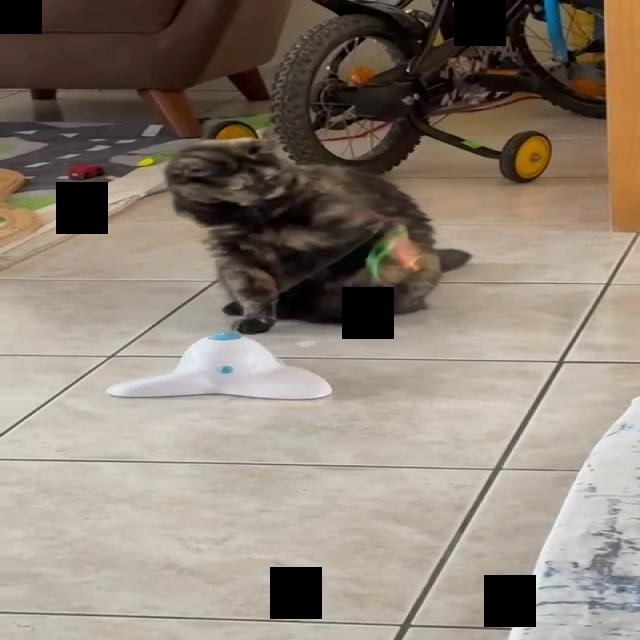authorized: (161, 134, 472, 335)
